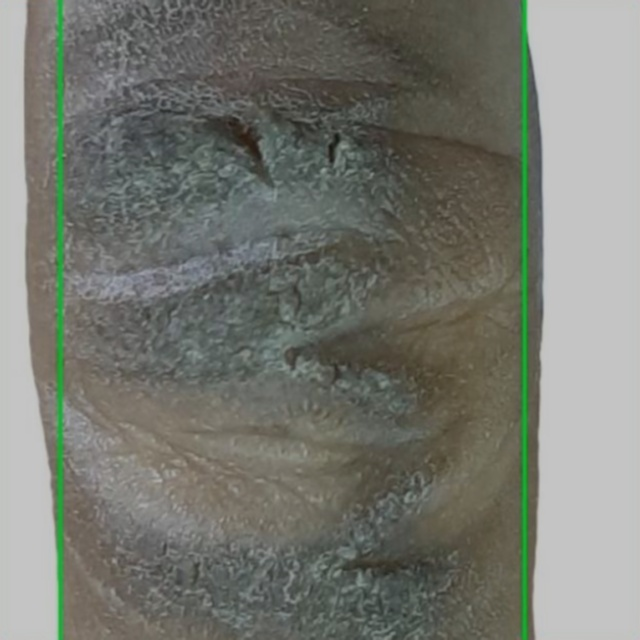Contact Dermatitis: (524, 0, 639, 639), (0, 0, 60, 639)
